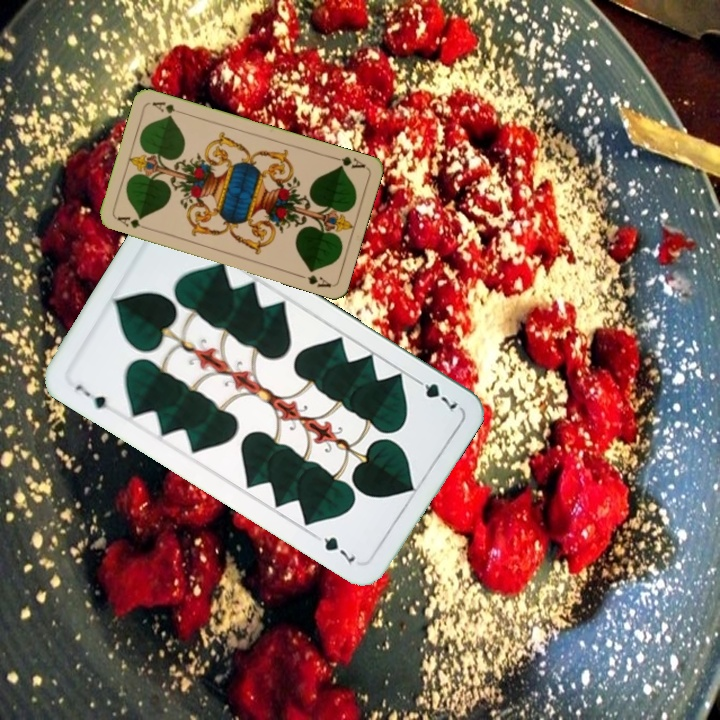G7: (409, 373, 460, 416), (71, 380, 118, 415)
GA: (113, 212, 152, 232), (328, 152, 368, 171)
